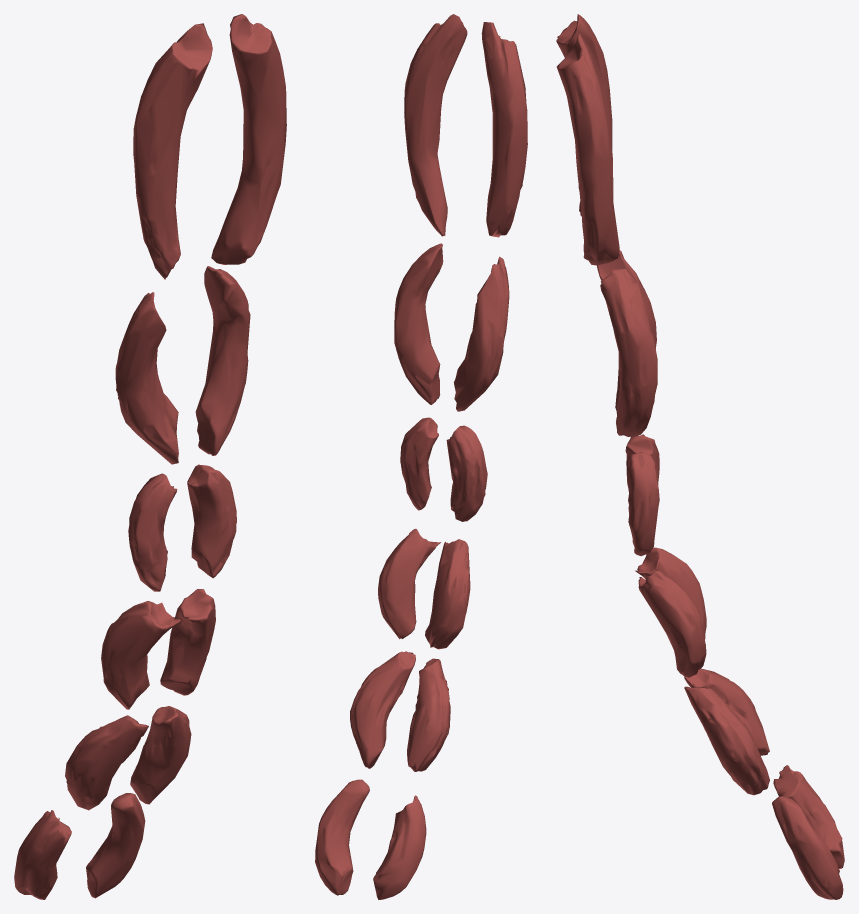
File: FMA71309.glb
3 renders of one model, left to right at view 1: azimuth 30°, elevation 25°; view 2: azimuth 150°, elevation 25°; view 3: azimuth 270°, elevation 25°, orthographic. The views are drawn at different scales.
Parts seen in each view (by area): view 1: FMA71309; view 2: FMA71309; view 3: FMA71309.
Boxes of the visible parts, bbox=[...] form: FMA71309: bbox=[14, 14, 286, 899]; FMA71309: bbox=[315, 14, 527, 899]; FMA71309: bbox=[556, 14, 844, 899].
Bounding box in the file's own units: 0.014 × 0.0883 × 0.0266.
